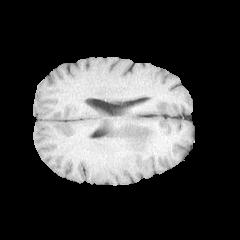glioma: (114, 122, 166, 152)
